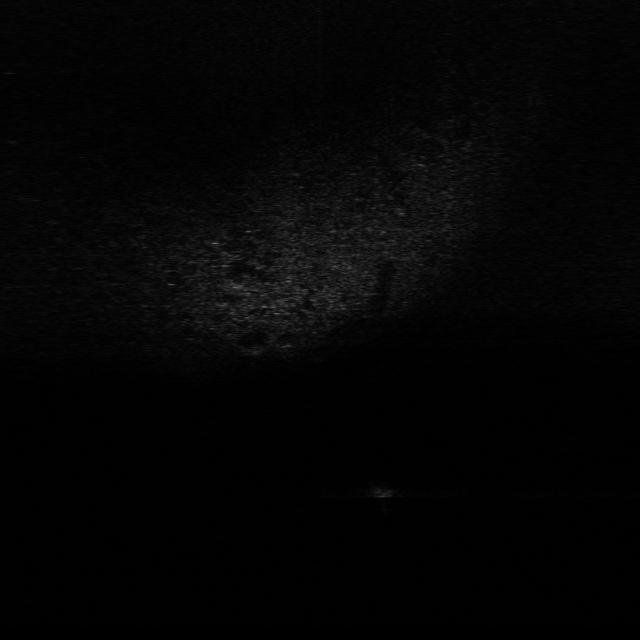cylinder: (357, 477, 399, 500)
